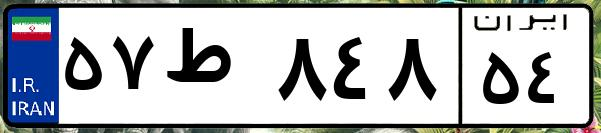4: (330, 28, 385, 110), (525, 38, 570, 115)
5: (57, 26, 110, 100), (475, 38, 525, 113)
7: (110, 28, 158, 98)
8: (270, 28, 330, 110), (385, 28, 445, 110)
ط: (158, 20, 270, 120)
